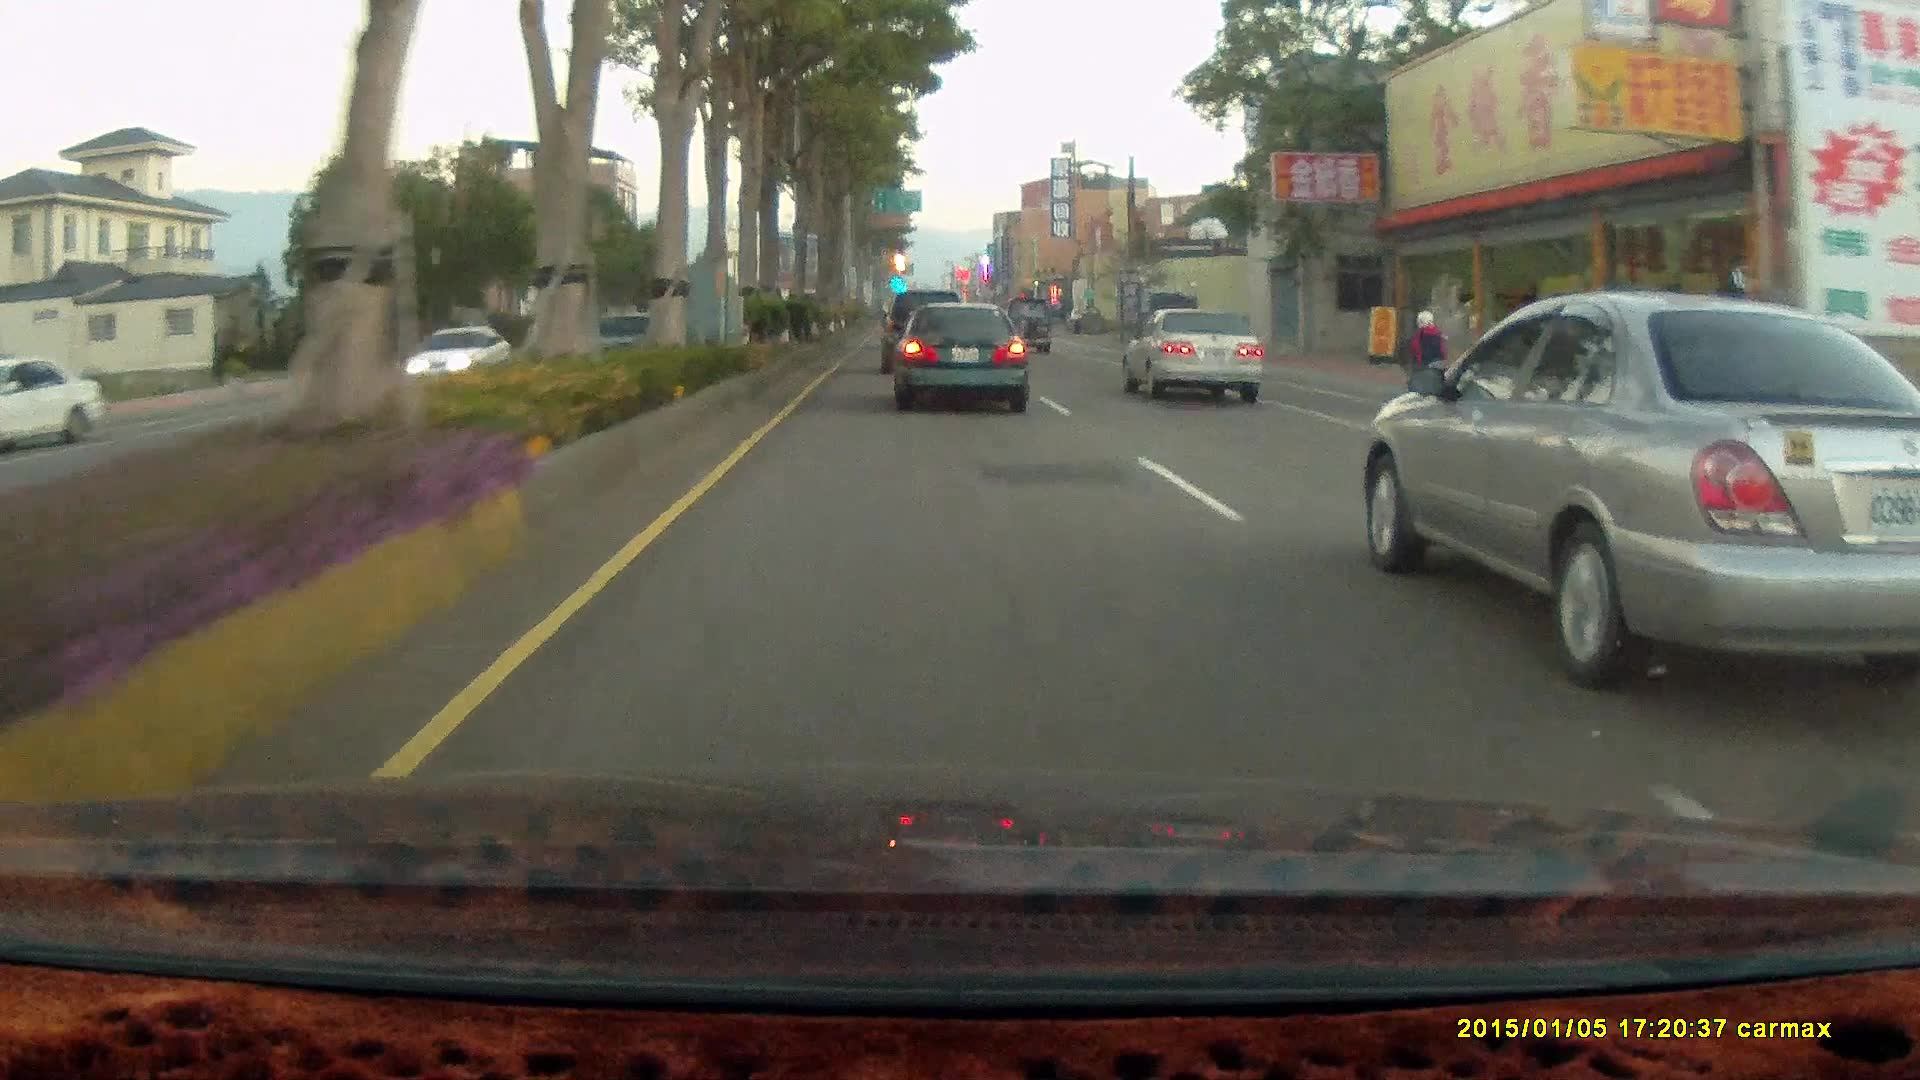rider: (1386, 298, 1470, 442), (1397, 307, 1457, 416)
vehicle: (1353, 289, 1920, 660), (891, 298, 1035, 417), (888, 300, 1028, 412), (1120, 307, 1271, 410), (1119, 304, 1262, 403), (1, 358, 109, 452), (1, 358, 106, 451), (883, 288, 970, 375), (402, 324, 517, 387), (882, 290, 965, 374), (402, 319, 517, 377), (1139, 290, 1200, 348), (1003, 297, 1052, 357)
